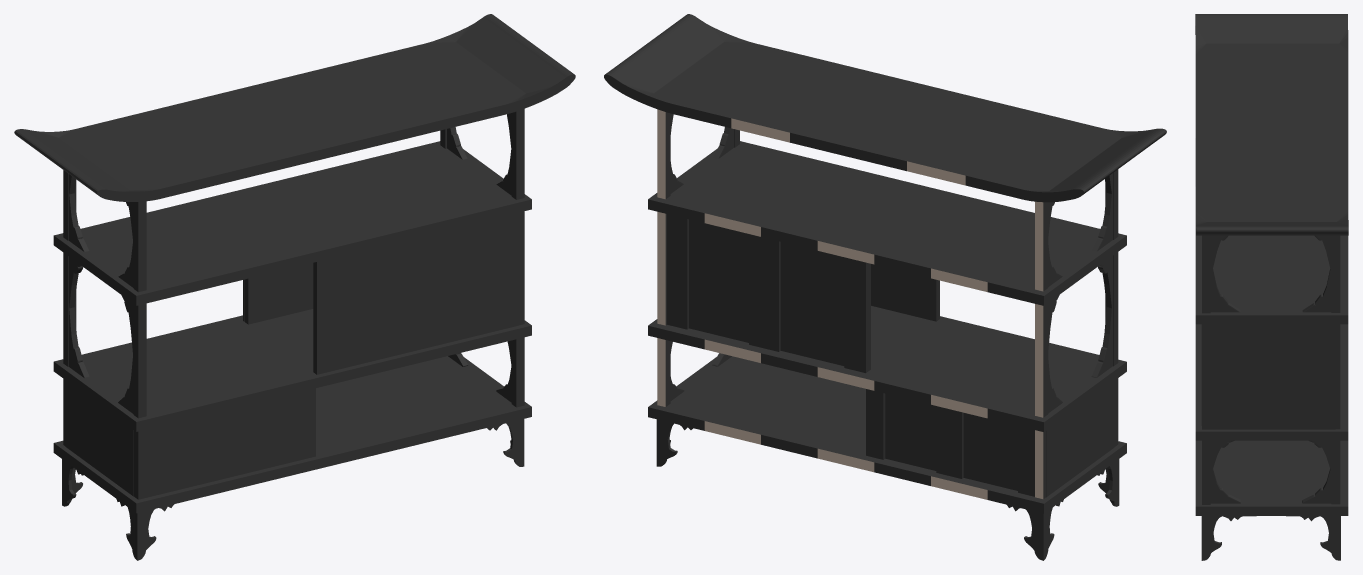
Rendered from Shelf 1.fbx.
The picture shows the model from 3 angles, left to right: view 1: azimuth 30°, elevation 25°; view 2: azimuth 150°, elevation 25°; view 3: azimuth 270°, elevation 25°; orthographic projection. The views are drawn at different scales.
Parts seen in each view (by area): view 1: Cube.006; view 2: Cube.006; view 3: Cube.006.
Boxes of the visible parts, x1,y1,x2,y2 form: Cube.006: [14, 14, 575, 560]; Cube.006: [604, 14, 1166, 560]; Cube.006: [1195, 14, 1348, 560].
Size of the model in its own units: 823 by 630 by 248.
